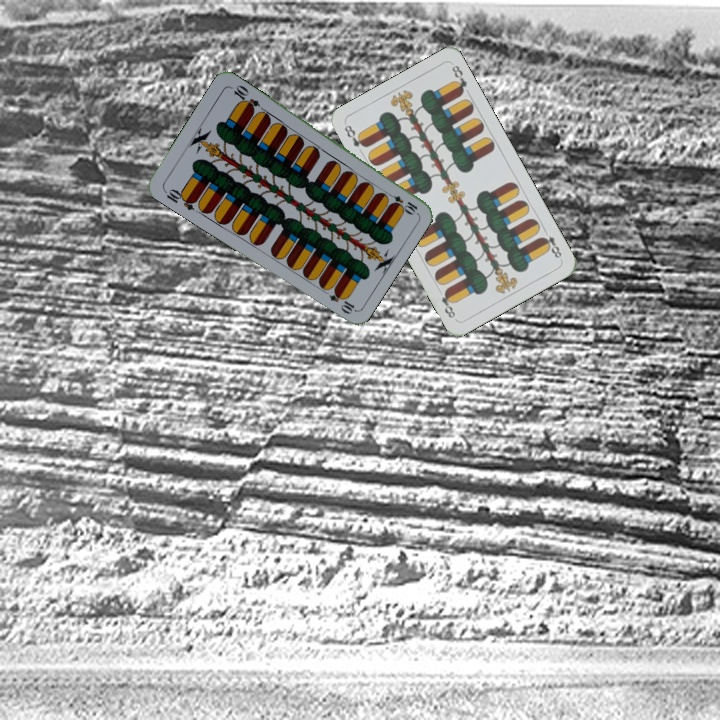E10: (160, 184, 199, 213), (382, 188, 420, 216)
E8: (537, 225, 564, 261), (340, 121, 369, 150)
